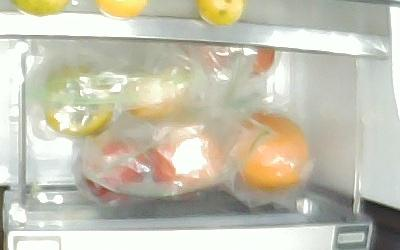apple_vinyl: (83, 134, 153, 203)
grapefruit_vinyl: (231, 112, 309, 188)
persimmon_vinyl: (41, 61, 115, 137), (117, 59, 191, 121)
prune_vinyl: (202, 46, 275, 74)
